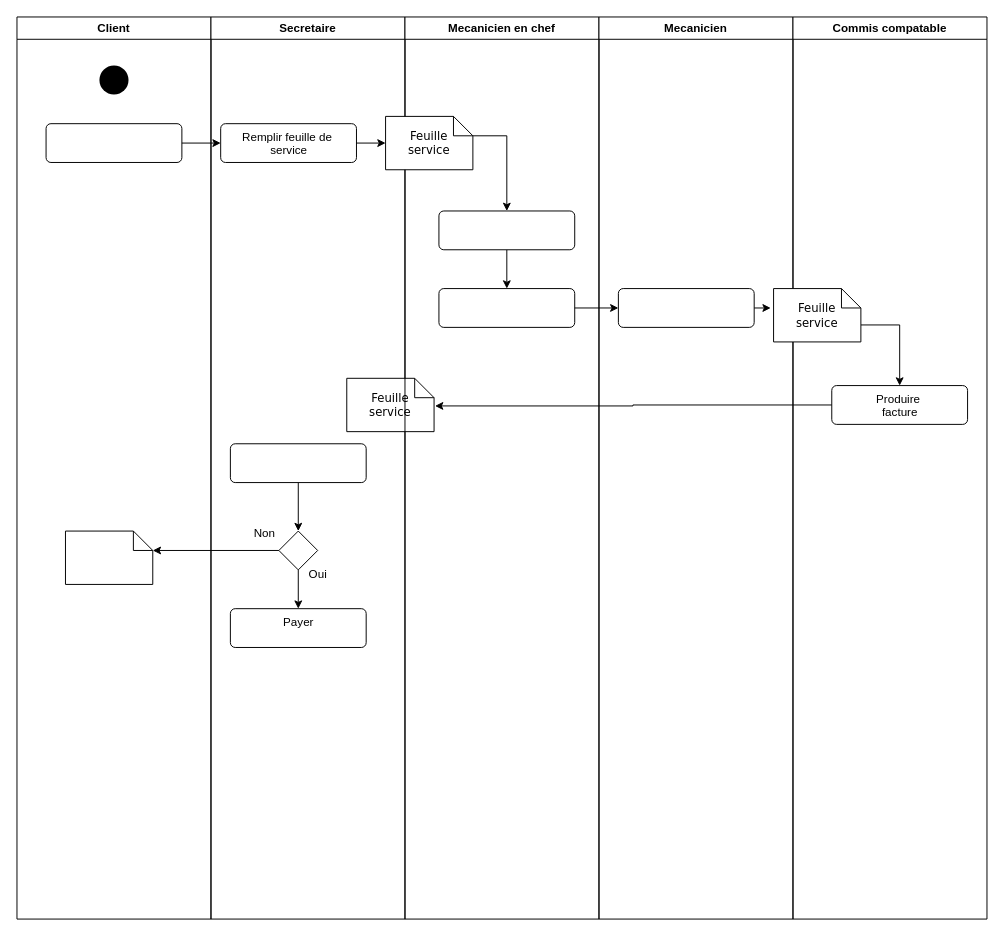
Some shapes in this 1004 by 936 pixel diagram are drawn without their labels. Each missing label, with the centre of its shape:
"Assigner auto" belongs at point (506, 307).
"Demander reparation/ entretirn" belongs at point (113, 142).
"Enter infos service" belongs at point (685, 307).
"Evaluer" belongs at point (506, 230).
"Facture" belongs at point (109, 557).
"Payement immediat" belongs at point (297, 463).
